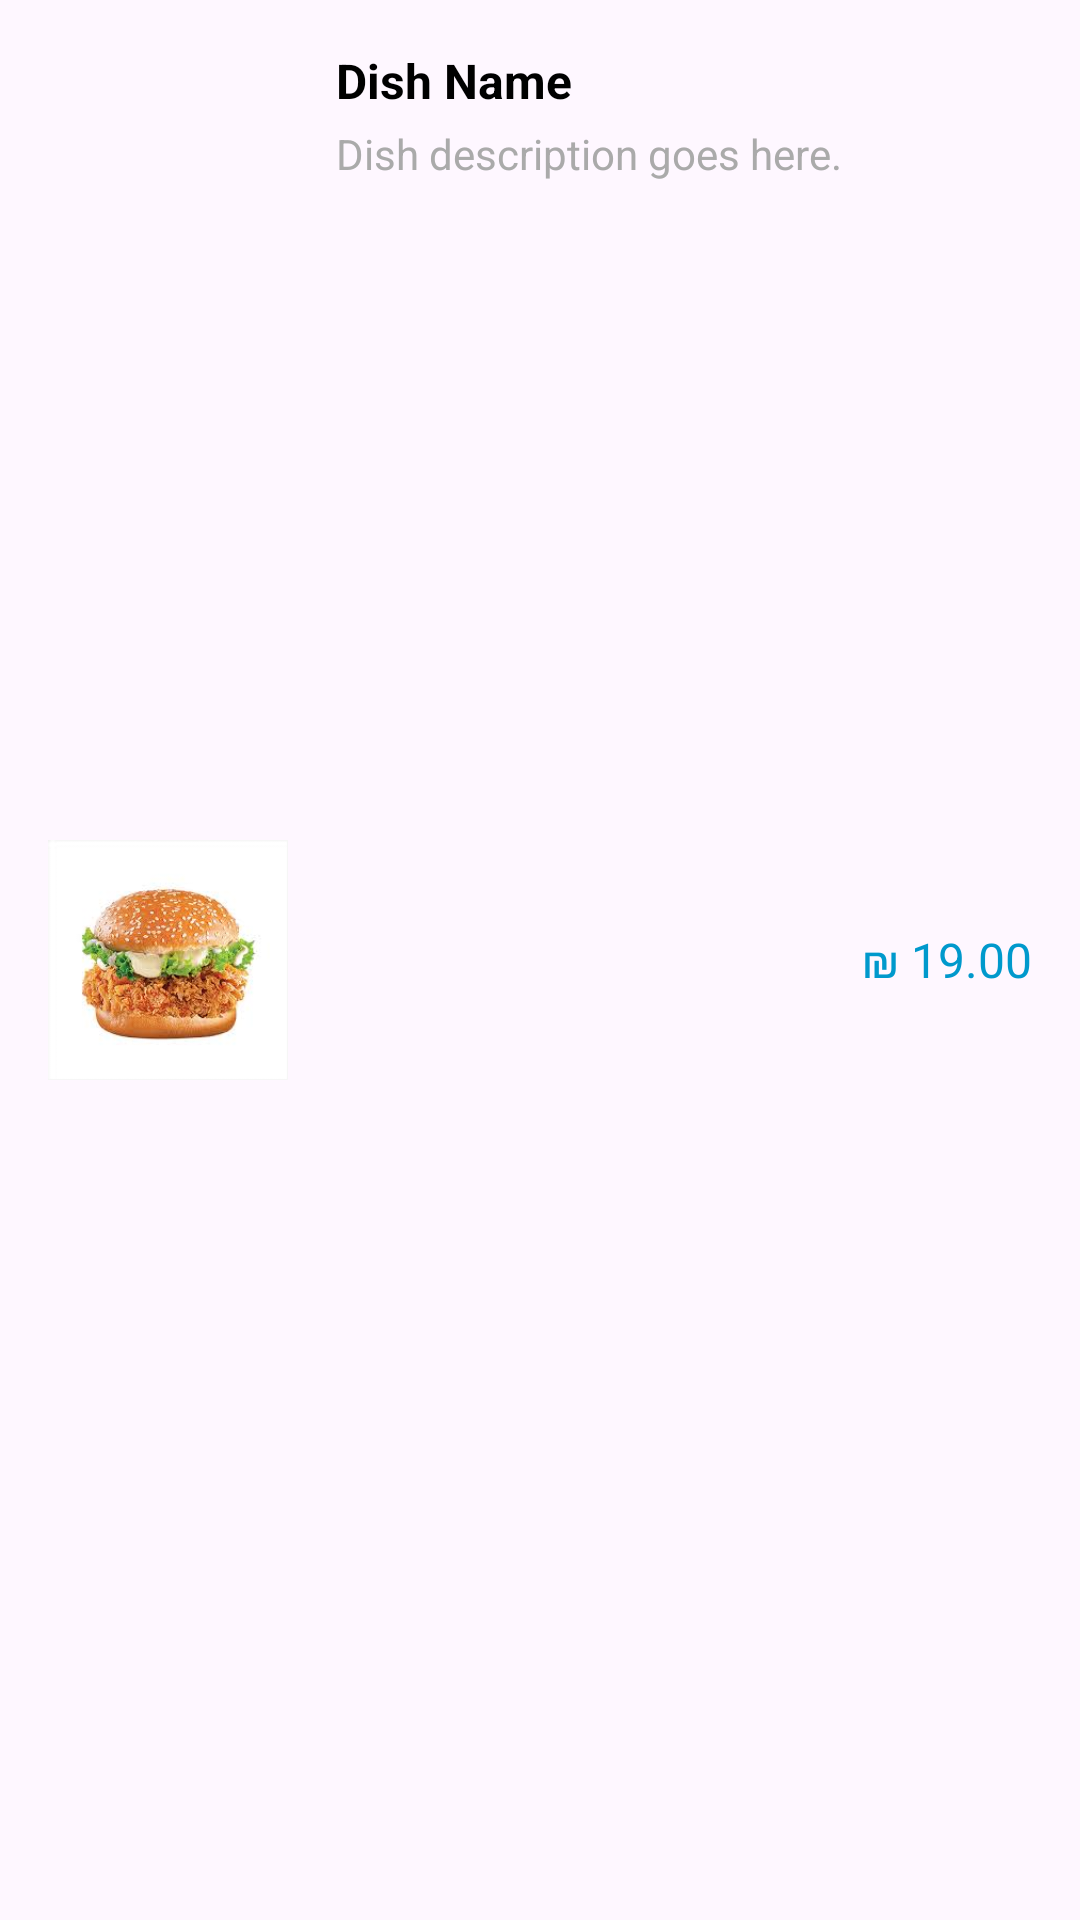

Icons on this 1080 × 1920 Android screen, each with its box as bbox=[x1, y1, x2, y2]:
chickenburger: bbox=[82, 887, 256, 1040]
